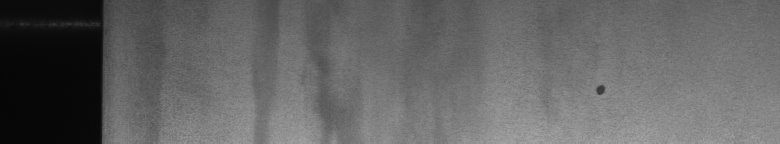fi: (591, 77, 611, 100)
